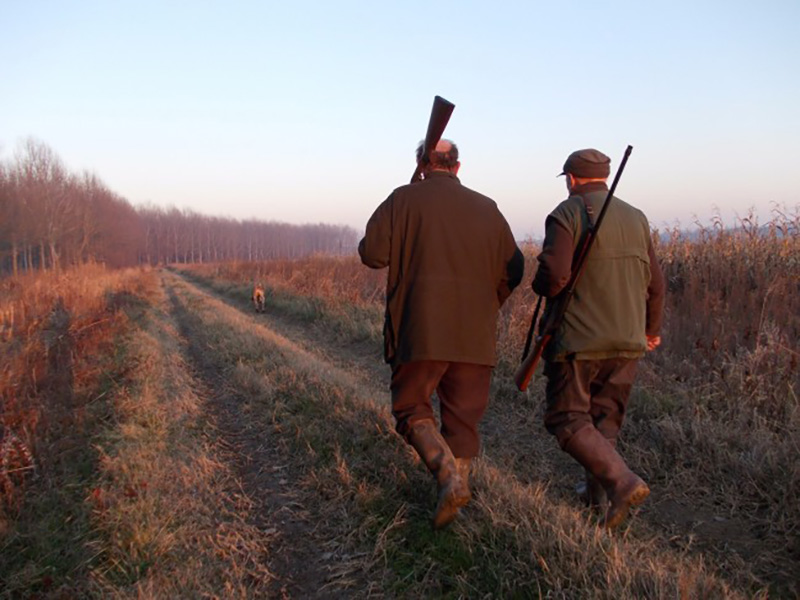cacciatore: (364, 89, 525, 542), (512, 130, 679, 518)
